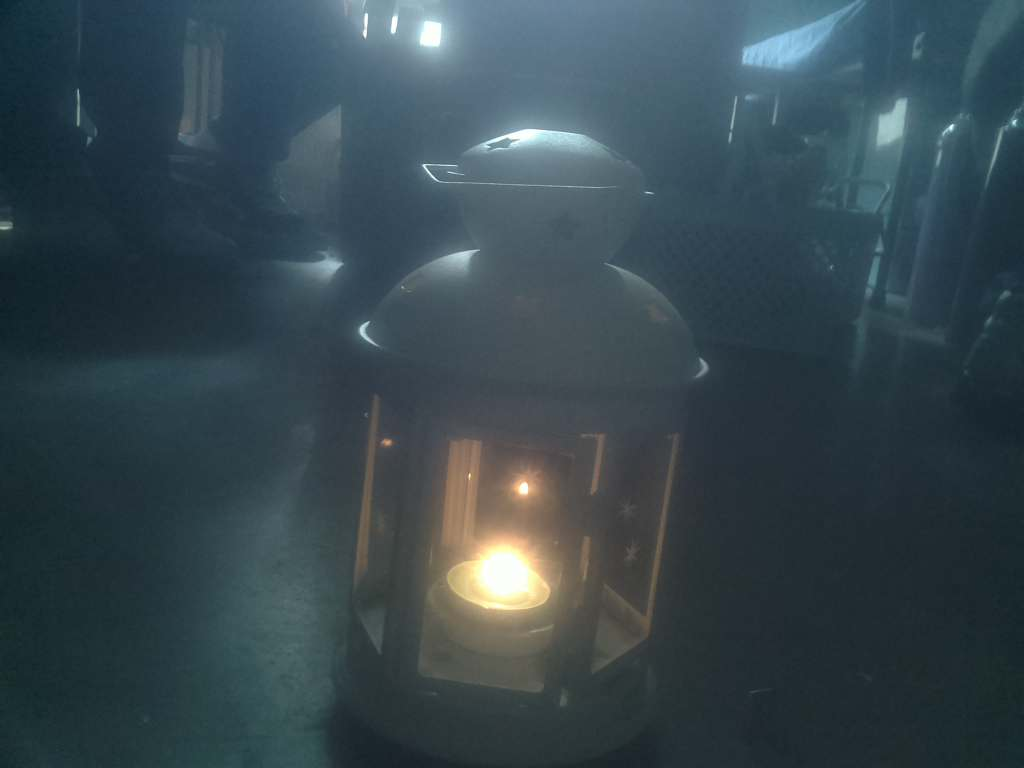fire: (425, 522, 577, 633)
